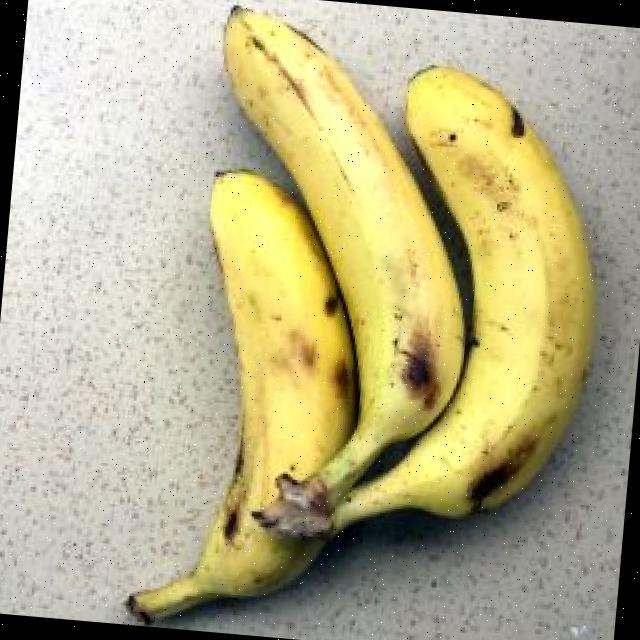banana: (223, 10, 462, 508), (334, 67, 590, 531), (133, 171, 354, 615)
